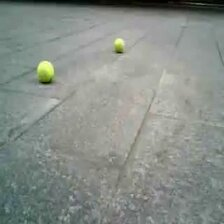tennis: (38, 60, 54, 81), (113, 38, 124, 50)
